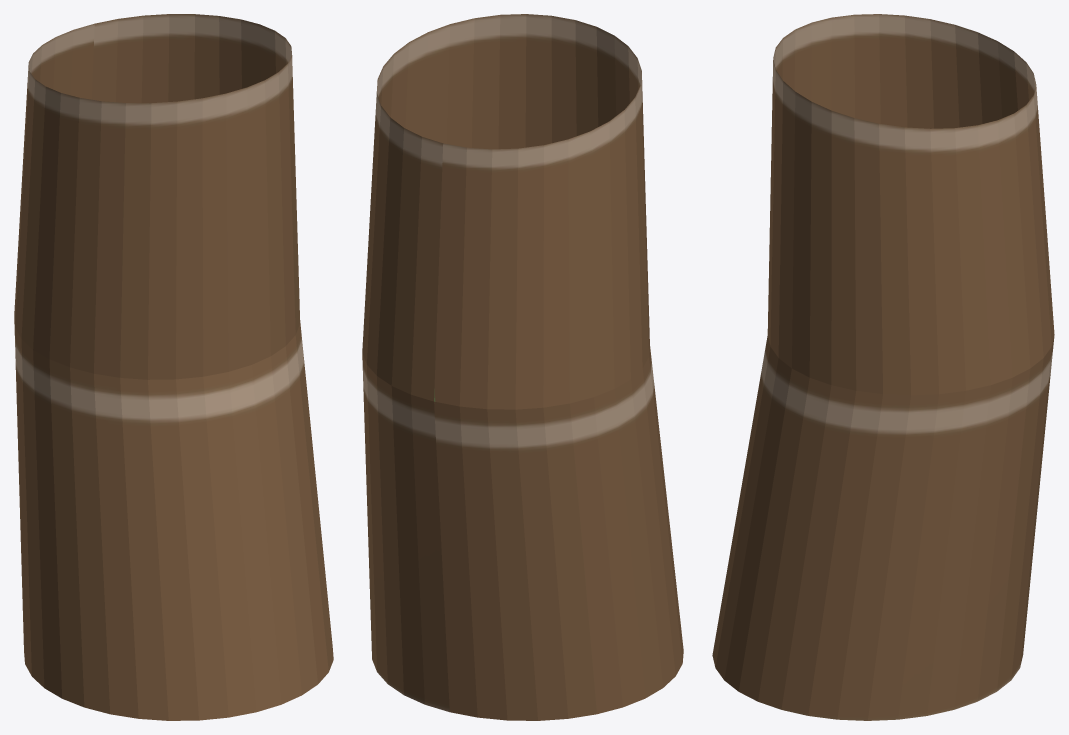
The model's file is Palmera Mid 1.obj.
3 views of the same model, side by side, from view 1: azimuth 30°, elevation 25°; view 2: azimuth 150°, elevation 25°; view 3: azimuth 270°, elevation 25° (orthographic).
Visible parts, largest first — view 1: Palmera_D2_Cilindro.001; view 2: Palmera_D2_Cilindro.001; view 3: Palmera_D2_Cilindro.001.
Boxes of the visible parts, <box> form: Palmera_D2_Cilindro.001: <box>14,14,333,720</box>; Palmera_D2_Cilindro.001: <box>362,14,683,720</box>; Palmera_D2_Cilindro.001: <box>712,14,1054,720</box>.
Size of the model in its own units: 0.4203 by 0.8913 by 0.4628.
1 material, 1 textured.
